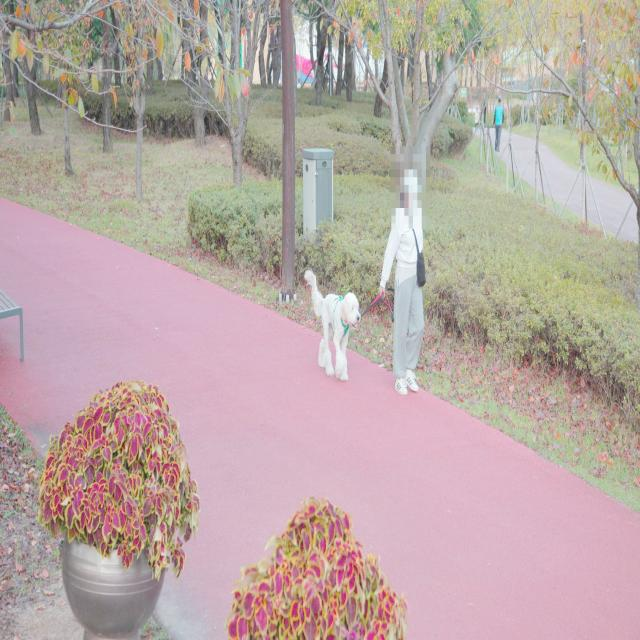Leashed_Dog: (304, 273, 406, 382)
